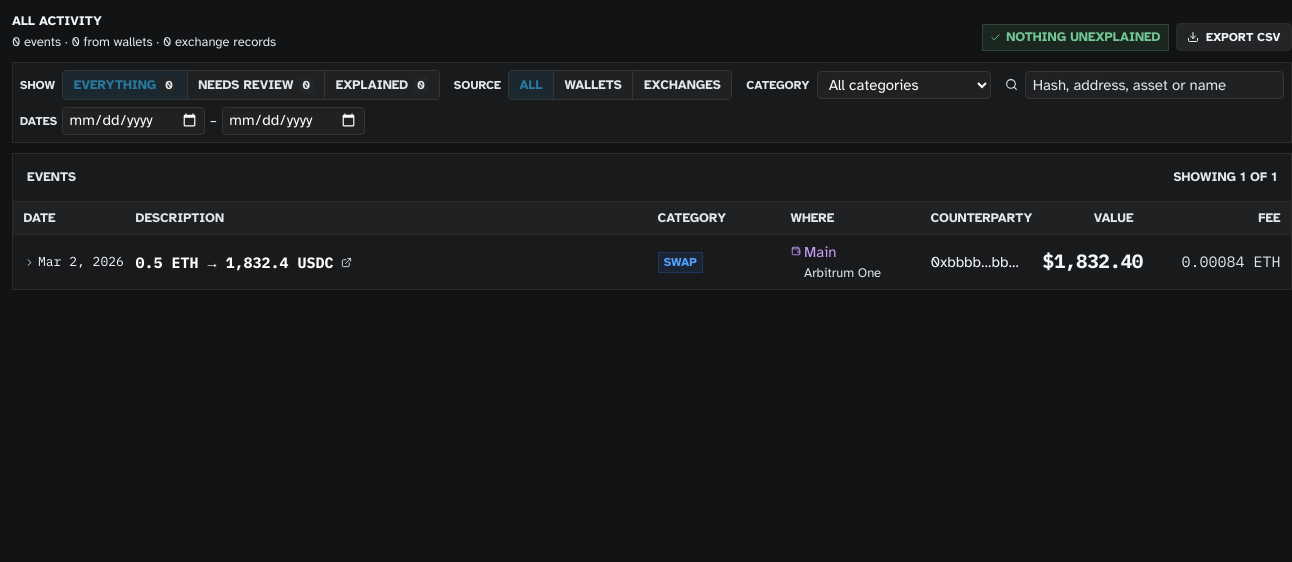
it: CryptoLedger › says what each raw leg moved, not only who it moved between
Click the text "0.5 ETH → 1,832.4 USDC" at (234, 262), box [136,252,334,273]
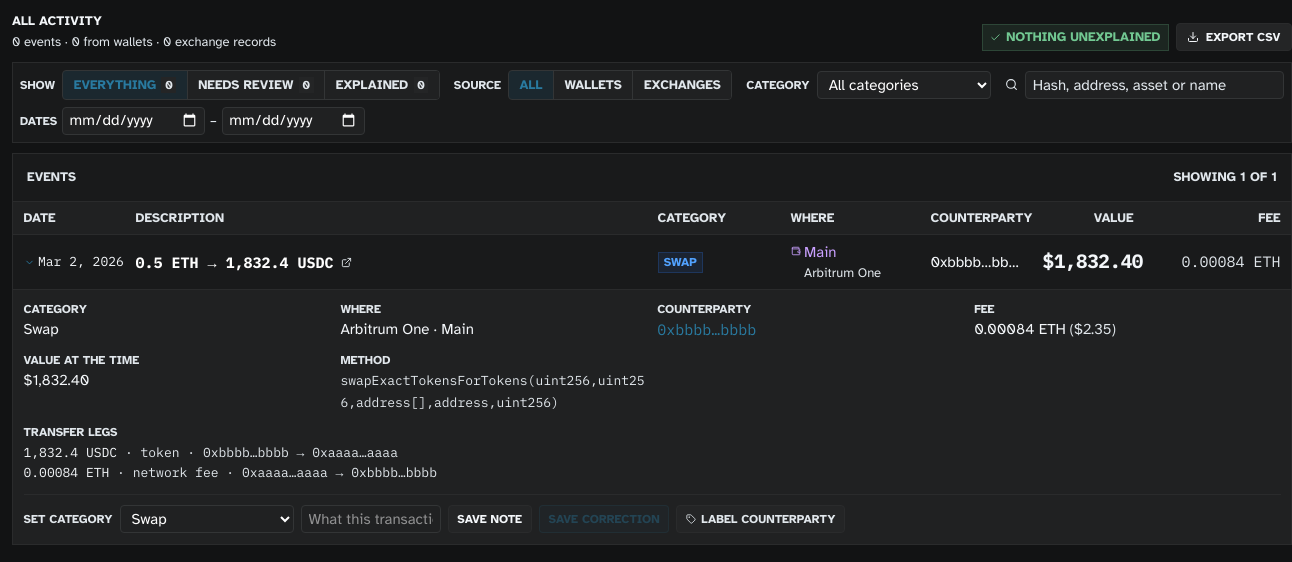
Expected: the text "1,832.4 USDC" is shown, [24,444,117,461]
